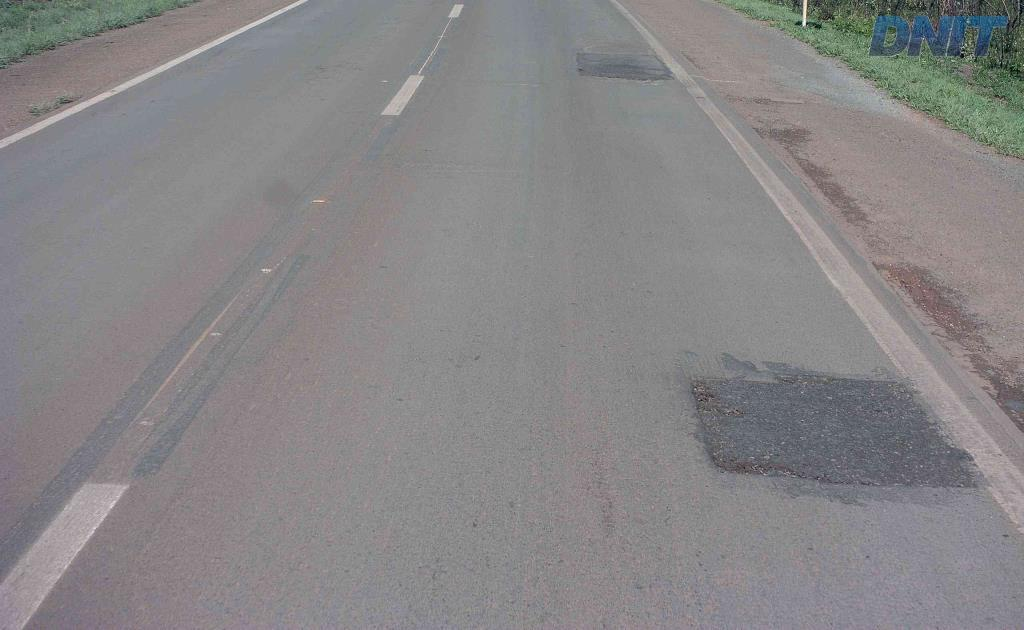crack: (730, 457, 809, 478), (691, 380, 734, 417)
